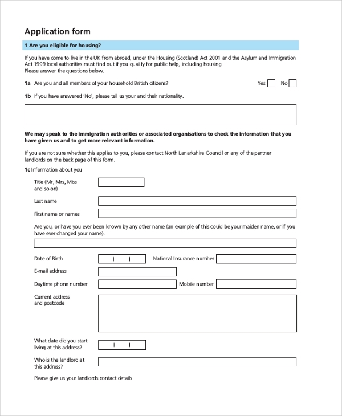checkbox: (287, 78, 299, 89), (266, 78, 276, 88)
textbox: (97, 293, 298, 334), (23, 102, 298, 127), (32, 237, 298, 249), (96, 194, 297, 207), (96, 207, 299, 219), (97, 356, 297, 368), (215, 277, 298, 290), (215, 252, 298, 264), (97, 266, 178, 278), (98, 279, 178, 289), (96, 338, 148, 351), (97, 251, 146, 264), (97, 175, 145, 188), (97, 338, 114, 351), (130, 339, 148, 350), (115, 338, 129, 352), (114, 251, 129, 264), (97, 252, 113, 264), (130, 252, 146, 264)
